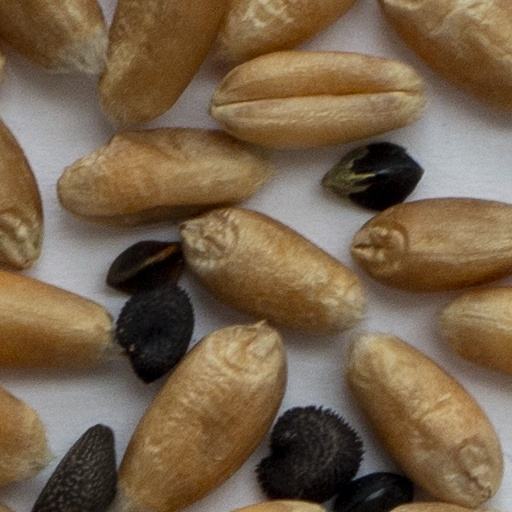Agrostemma-poly: (258, 408, 361, 502), (117, 283, 190, 378)
Convolvulus-poly: (32, 425, 115, 511)
Fallopia-Сonvolvulus-poly: (324, 143, 422, 210), (108, 242, 181, 292), (339, 472, 412, 511)
